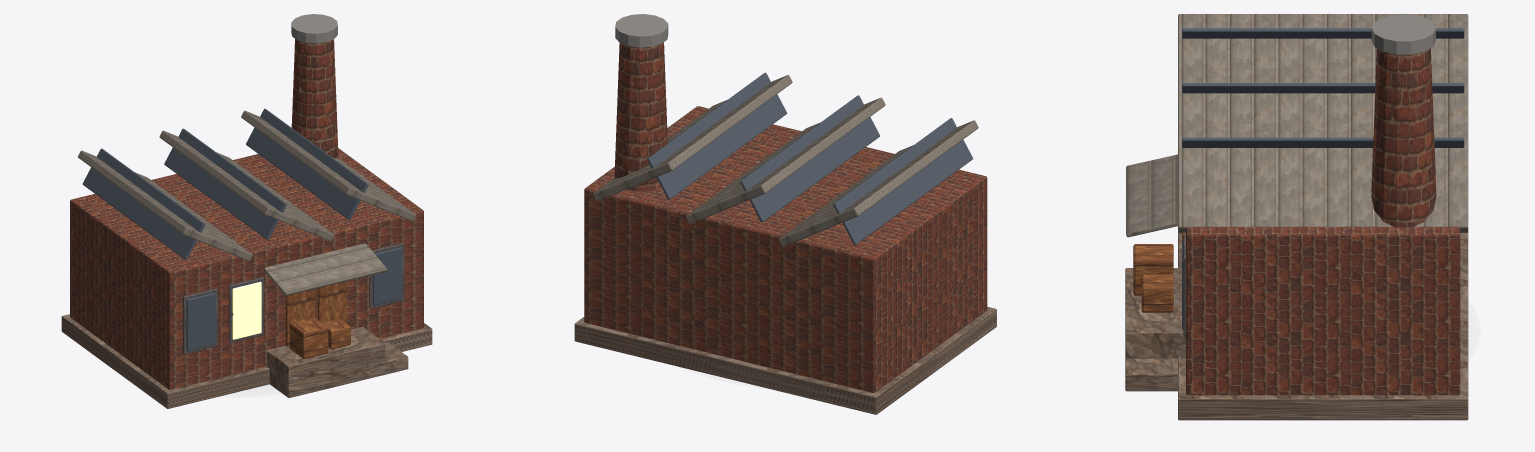
Rendered from factory.glb.
3 views of the same model, side by side, from view 1: azimuth 30°, elevation 25°; view 2: azimuth 150°, elevation 25°; view 3: azimuth 270°, elevation 25° (orthographic). The views are drawn at different scales.
Visible parts, largest first — view 1: walls, footing, dock, chimney, roofGlass.001, roofGlass, roofGlass.002, canopy, roofTooth.001, roofTooth, roofTooth.002, win.001 (+11 smaller); view 2: walls, footing, chimney, roofGlass.002, roofGlass.001, roofGlass, roofTooth.001, roofTooth, roofTooth.002, chimneyCap; view 3: walls, roofTooth.002, roofTooth, roofTooth.001, chimney, footing, canopy, dock, roofGlass.001, roofGlass.002, roofGlass, chimneyCap (+3 smaller).
Boxes of the visible parts, x1,y1,x2,y2 form: walls: [70, 148, 423, 389]; footing: [61, 314, 432, 408]; dock: [266, 327, 385, 397]; chimney: [291, 39, 338, 158]; roofGlass.001: [164, 128, 286, 240]; roofGlass: [82, 148, 205, 259]; roofGlass.002: [246, 108, 368, 220]; canopy: [264, 243, 387, 295]; roofTooth.001: [159, 130, 334, 241]; roofTooth: [78, 150, 252, 261]; roofTooth.002: [241, 110, 416, 221]; win.001: [232, 281, 261, 339]; walls: [584, 106, 987, 392]; footing: [574, 306, 996, 414]; chimney: [614, 42, 667, 191]; roofGlass.002: [647, 72, 787, 199]; roofGlass.001: [740, 95, 879, 222]; roofGlass: [833, 118, 973, 245]; roofTooth.001: [686, 97, 885, 223]; roofTooth: [779, 120, 978, 246]; roofTooth.002: [593, 75, 792, 201]; chimneyCap: [615, 14, 668, 47]; walls: [1186, 227, 1460, 395]; roofTooth.002: [1178, 123, 1468, 232]; roofTooth: [1178, 14, 1468, 69]; roofTooth.001: [1178, 68, 1468, 123]; chimney: [1371, 48, 1436, 227]; footing: [1178, 232, 1468, 420]; canopy: [1126, 154, 1177, 237]; dock: [1125, 268, 1185, 358]; roofGlass.001: [1182, 83, 1464, 93]; roofGlass.002: [1182, 137, 1464, 147]; roofGlass: [1182, 28, 1464, 38]; chimneyCap: [1371, 14, 1435, 54].
Size of the model in its own units: 6.3 by 5.04 by 5.3.
Materials: 11 (8 with a texture image).
